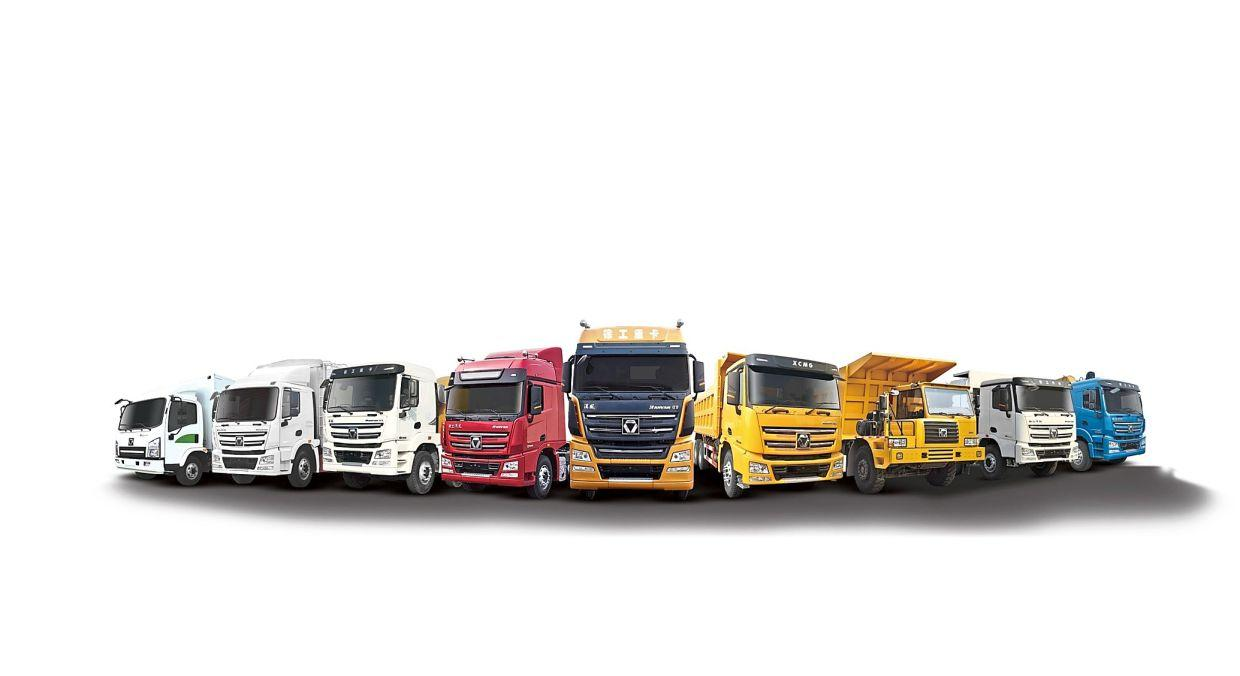truck: (562, 321, 705, 502), (695, 351, 848, 501), (837, 351, 986, 495), (439, 346, 571, 499), (211, 358, 345, 488), (320, 364, 447, 497), (112, 372, 234, 487), (975, 377, 1080, 478), (1072, 372, 1148, 473)
